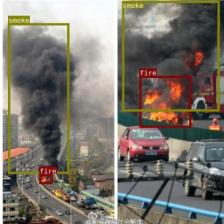fire: (139, 76, 191, 128), (39, 174, 52, 184)
smoke: (122, 0, 219, 111), (8, 23, 68, 173)
